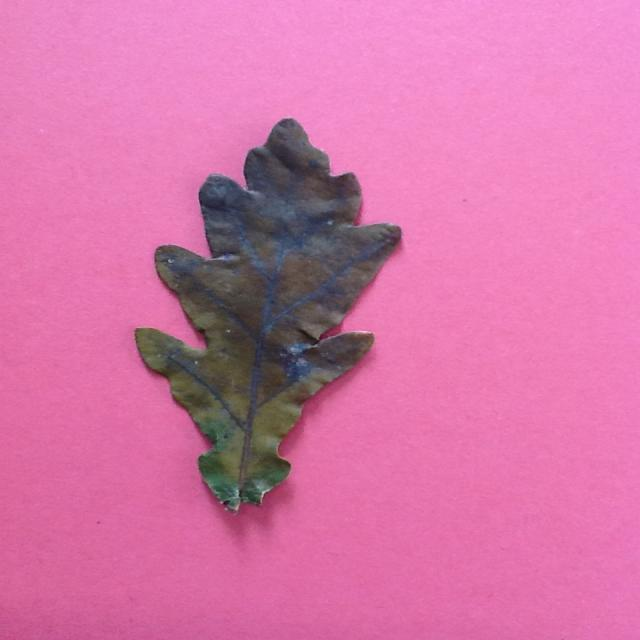foliage: (132, 113, 406, 519)
